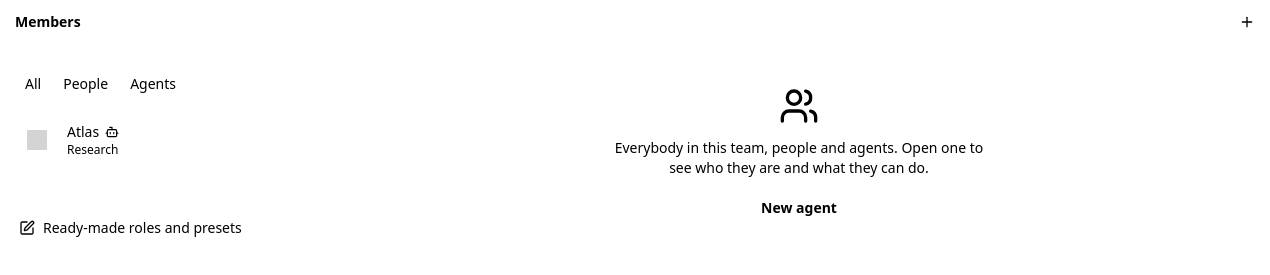
Test: the members list › shows only the people or only the agents on their tabs, and opens on the tab chosen last
Earlier steps of the test are not shown.
Click the tab "People". click: (86, 84)
box: [52,70,119,98]
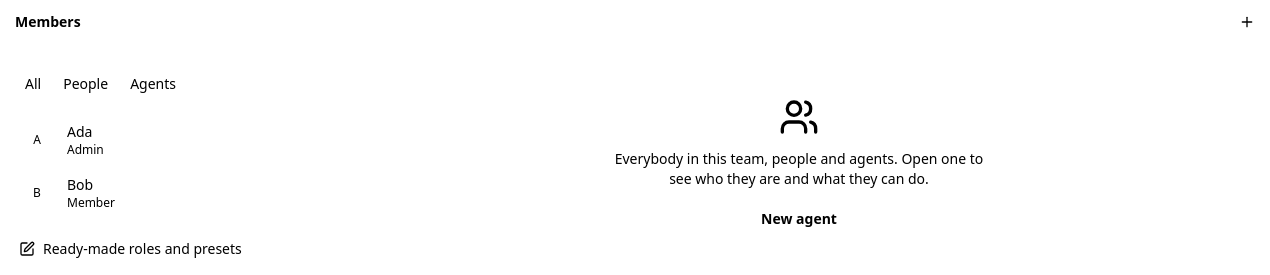
Expected: the number of links with test id "member-row" is 2, [33,122,104,158]; [33,175,115,211]
